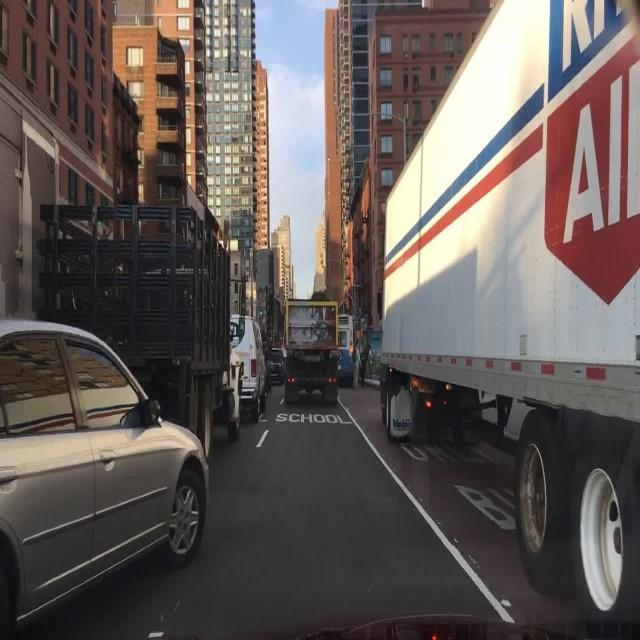normal: (372, 35, 640, 614), (4, 315, 213, 634), (19, 186, 242, 450), (281, 299, 339, 407), (228, 315, 268, 420), (267, 348, 286, 385)
